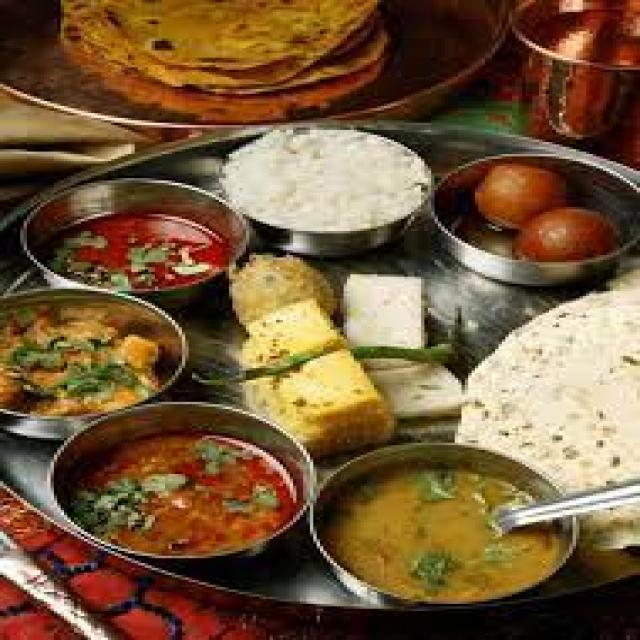papad: (458, 295, 640, 486), (216, 248, 346, 373)
rice: (223, 125, 428, 247)
roti: (50, 0, 388, 102)
sambar-rasam: (26, 175, 228, 294)
sweet: (23, 177, 242, 294), (452, 154, 629, 270)
veg-fry: (48, 420, 308, 573)
